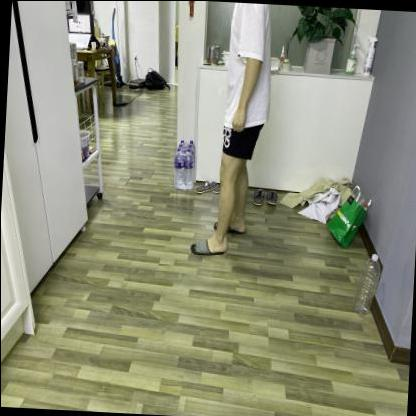no_safety-shoe: (187, 228, 233, 266)
